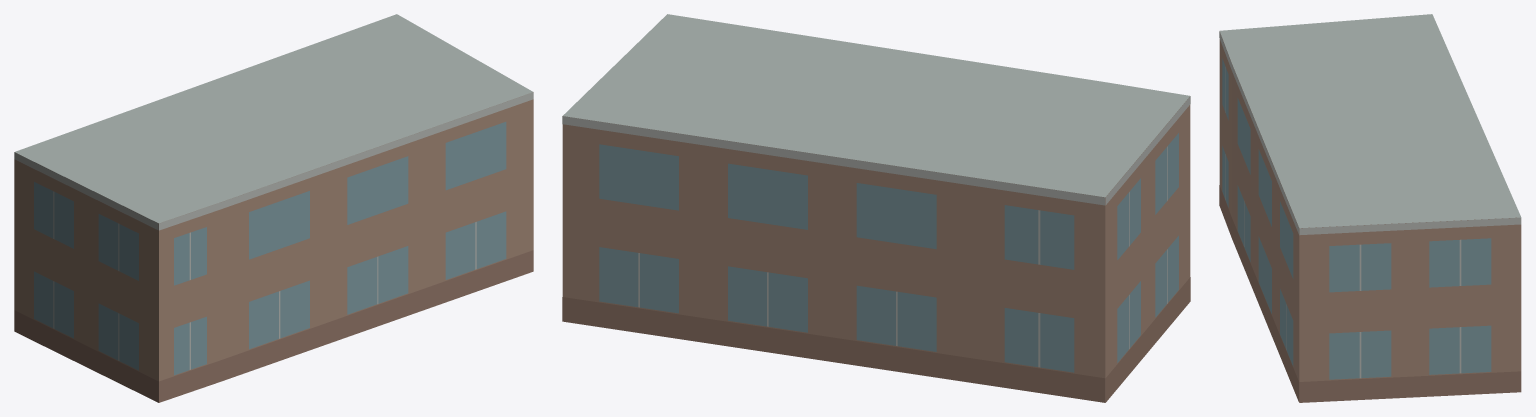
File: survey-upis-32827029.glb
3 renders of one model, left to right at view 1: azimuth 30°, elevation 25°; view 2: azimuth 150°, elevation 25°; view 3: azimuth 270°, elevation 25°, orthographic. The views are drawn at different scales.
Parts seen in each view (by area): view 1: survey-upis-32827029.tmp; view 2: survey-upis-32827029.tmp; view 3: survey-upis-32827029.tmp.
Part boxes in pixels (x1,y1,x2,y2): survey-upis-32827029.tmp: (14,14,533,402); survey-upis-32827029.tmp: (562,14,1190,402); survey-upis-32827029.tmp: (1219,14,1521,402).
Size of the model in its own units: 16.05 by 6.1 by 9.57.
